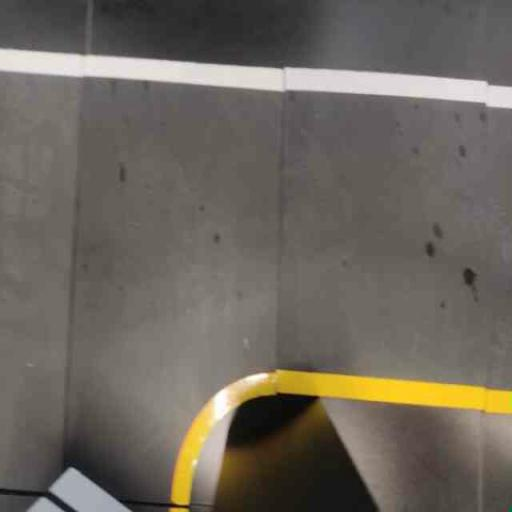straight: (278, 63, 512, 413)
